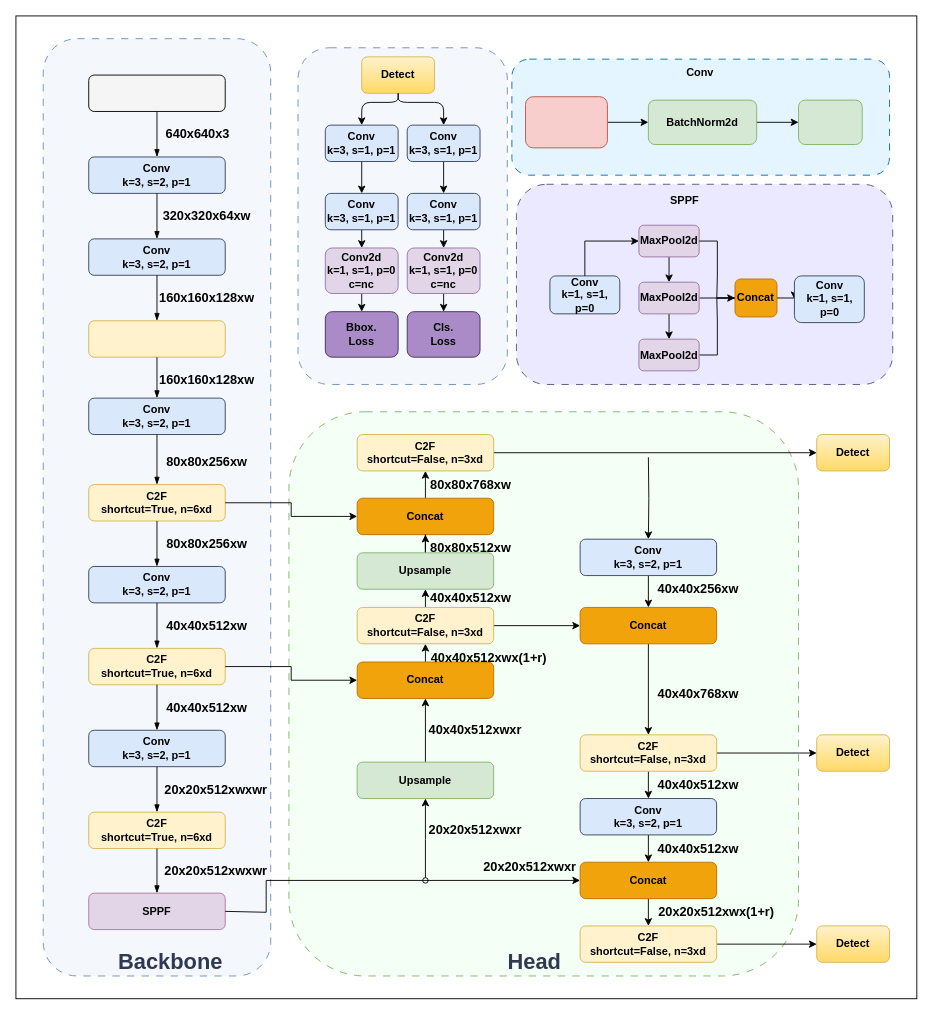
This 933x1015 diagram has some shape labels left out. The box of each missing label's shape, as (x1, y1, x2, y2) in pixels:
C2F shortcut=True, n=3xd: (88, 320, 225, 357)
Conv2d k, s, p, c: (525, 96, 607, 148)
Image: (88, 74, 225, 111)
SiLU: (798, 99, 862, 145)
